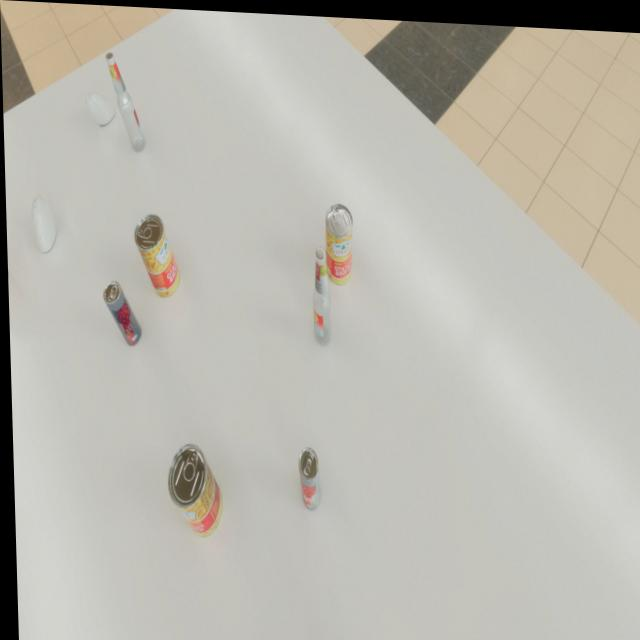Bottle: (105, 51, 145, 151), (309, 243, 331, 343)
Potato_sticks: (164, 441, 220, 536), (133, 212, 179, 297), (323, 199, 353, 283)
Rita_zero_sugar: (101, 279, 139, 345), (296, 444, 318, 507)
Salt: (30, 194, 55, 253), (85, 90, 114, 125)
